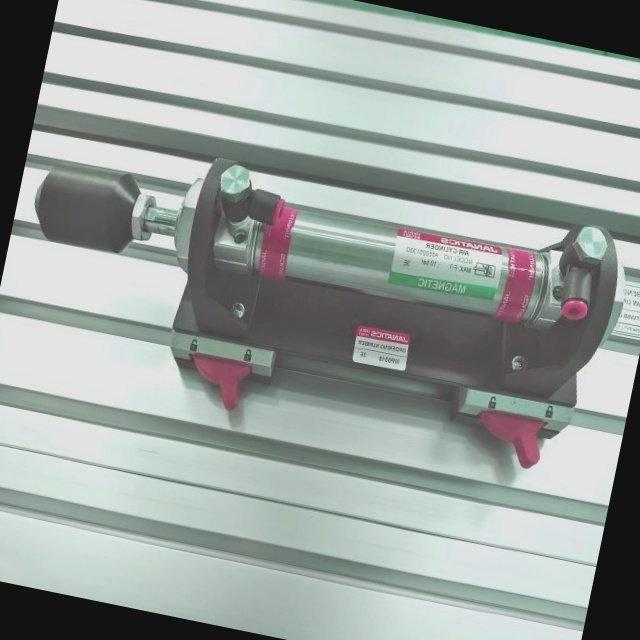double acting pneumatic cylinder: (3, 110, 640, 489)
push button: (2, 113, 639, 484)
